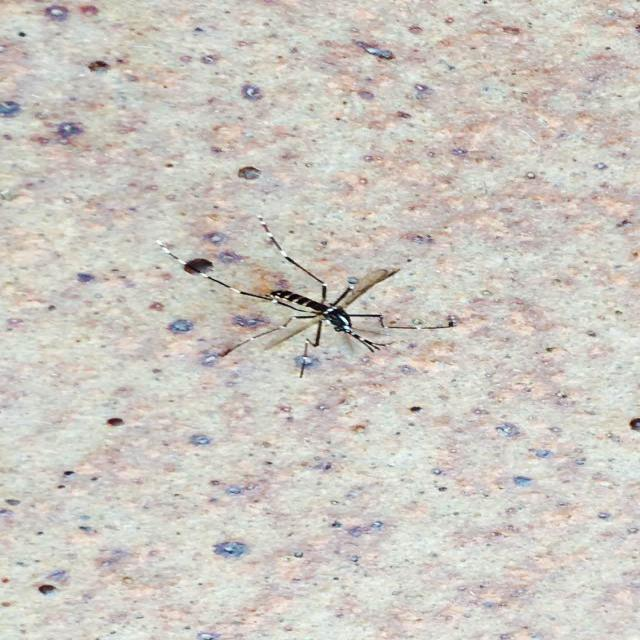albopictus: (147, 208, 461, 376)
